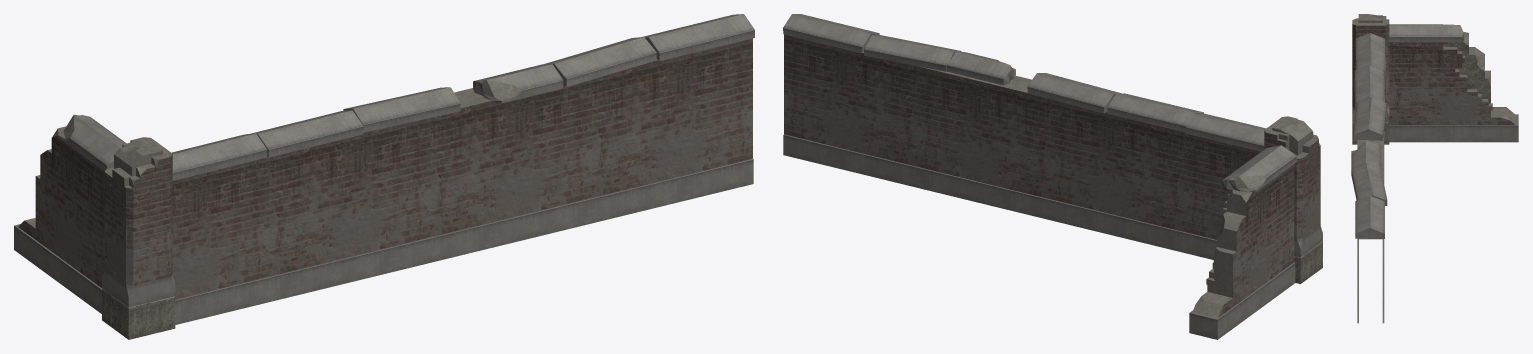
File: Cemetery_STR_InnerWall_05.fbx
3 renders of one model, left to right at view 1: azimuth 30°, elevation 25°; view 2: azimuth 150°, elevation 25°; view 3: azimuth 270°, elevation 25°, orthographic. The views are drawn at different scales.
Visible parts, largest first — view 1: Cemetery_STR_InnerWall_05; view 2: Cemetery_STR_InnerWall_05; view 3: Cemetery_STR_InnerWall_05.
Boxes of the visible parts, x1,y1,x2,y2 form: Cemetery_STR_InnerWall_05: (14,14,754,339); Cemetery_STR_InnerWall_05: (783,14,1322,339); Cemetery_STR_InnerWall_05: (1351,14,1518,323).
Size of the model in its own units: 810 by 217 by 272.
1 material, 1 textured.
